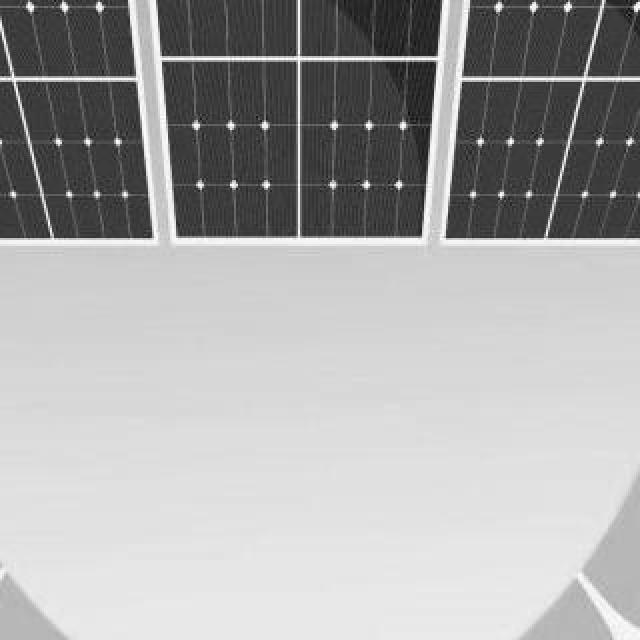Non Defective: (13, 3, 612, 240)
